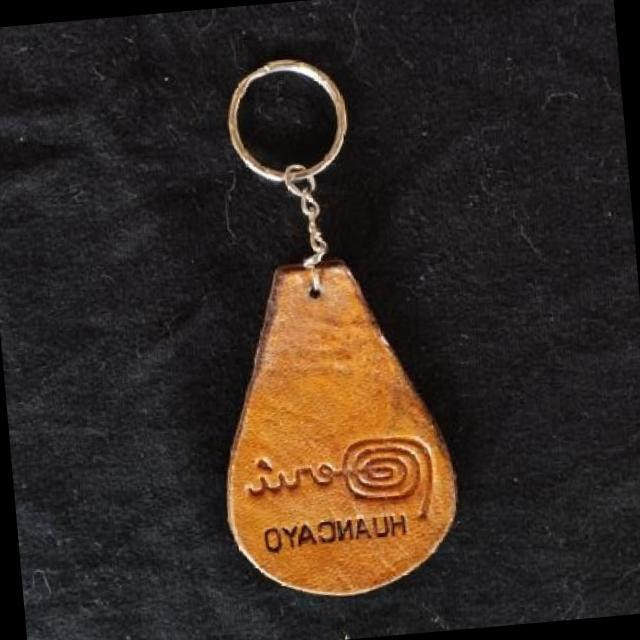Llavero: (203, 247, 468, 606)
